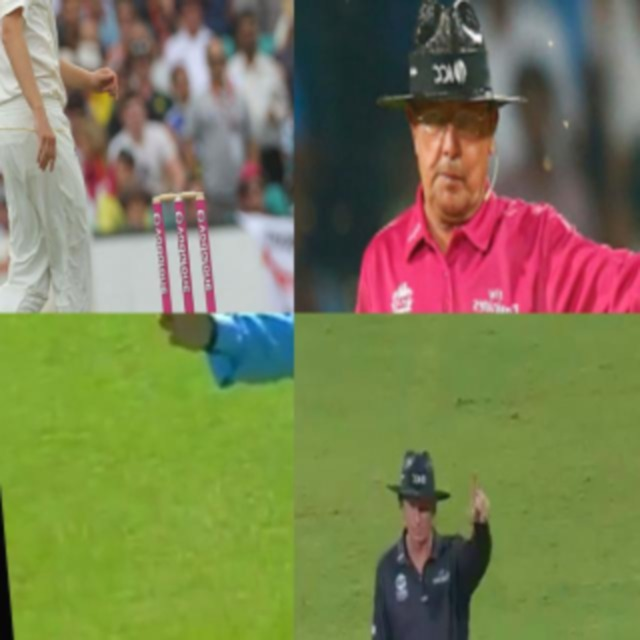No_Ball: (294, 0, 640, 313), (137, 313, 294, 640)
Out: (346, 432, 521, 640)
